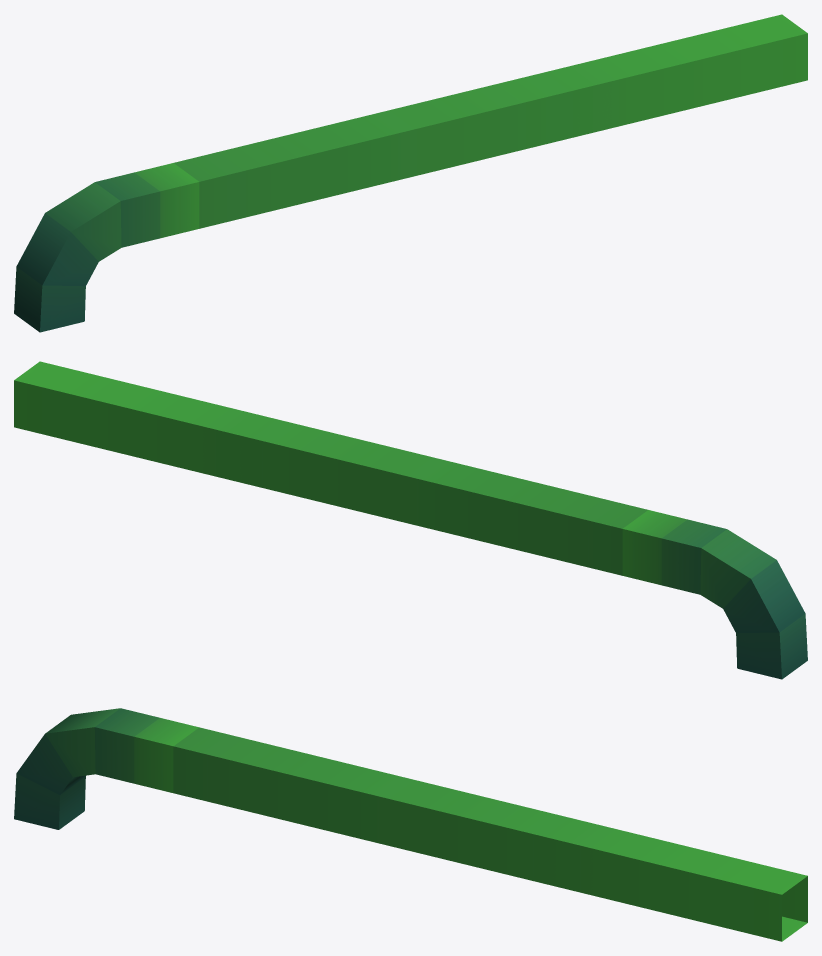
The model's file is Cable_003.FBX.
The picture shows the model from 3 angles, top to bottom: view 1: azimuth 30°, elevation 25°; view 2: azimuth 150°, elevation 25°; view 3: azimuth 330°, elevation 25°; orthographic projection.
Parts seen in each view (by area): view 1: Cable_003; view 2: Cable_003; view 3: Cable_003.
Boxes of the visible parts, x1,y1,x2,y2 form: Cable_003: (14, 14, 807, 332); Cable_003: (14, 361, 807, 679); Cable_003: (14, 708, 807, 941).
Size of the model in its own units: 0.4001 by 0.0556 by 0.0234.
Materials: 1 (1 with a texture image).
